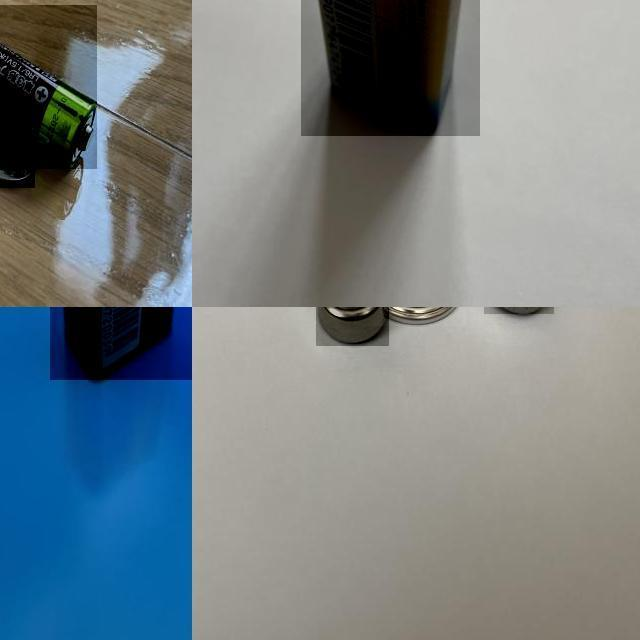9V: (301, 0, 480, 136), (50, 307, 192, 380)
